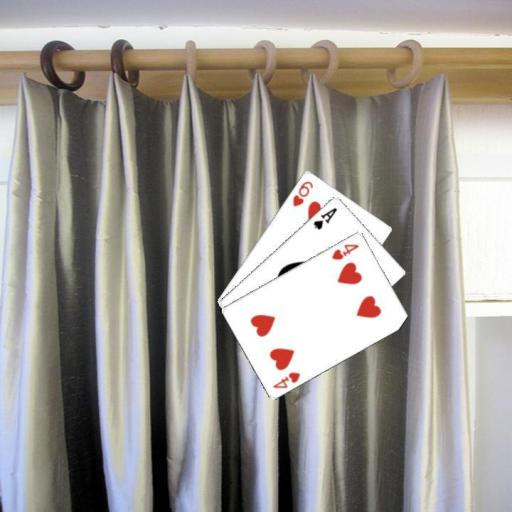4H: (270, 368, 302, 390), (329, 240, 361, 261)
6H: (290, 178, 315, 208)
AS: (310, 204, 339, 231)
